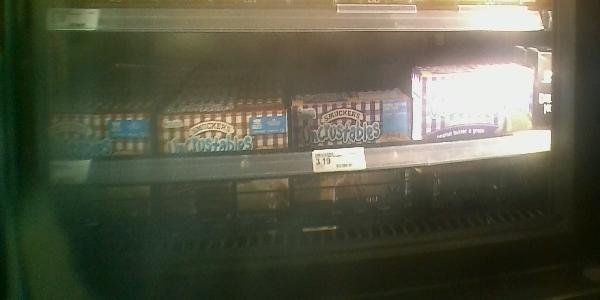icecream: (407, 57, 536, 141), (156, 103, 293, 157), (289, 93, 414, 150), (44, 102, 157, 165)
